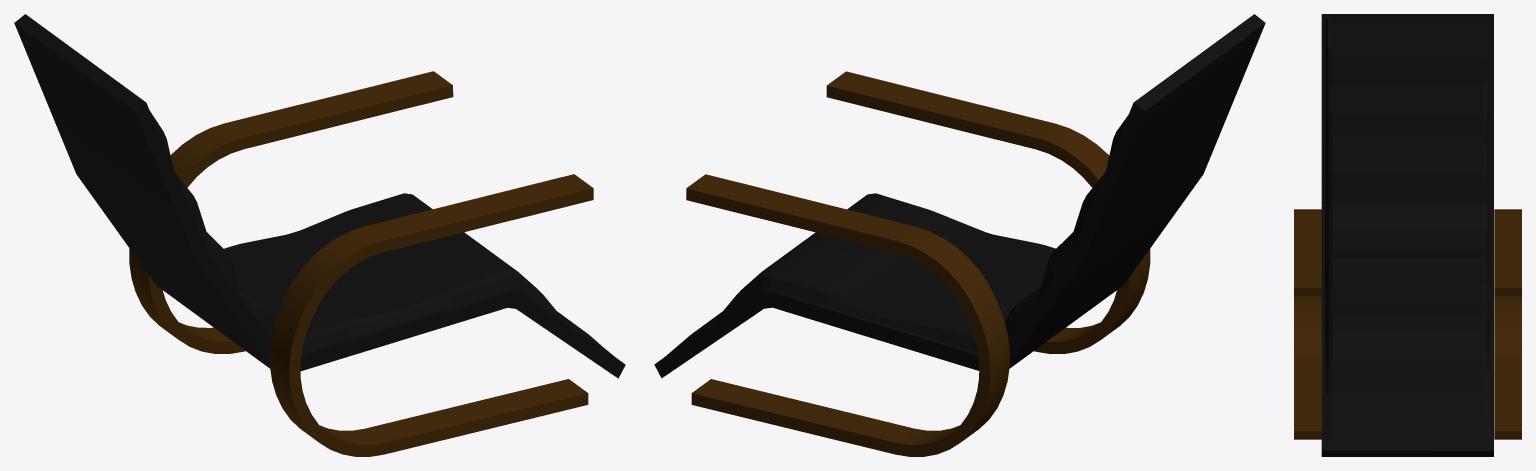
Rendered from chair.FBX.
3 views of the same model, side by side, from view 1: azimuth 30°, elevation 25°; view 2: azimuth 150°, elevation 25°; view 3: azimuth 270°, elevation 25° (orthographic). The views are drawn at different scales.
Visible parts, largest first — view 1: Line03, Line04, Line02; view 2: Line03, Line02, Line04; view 3: Line03, Line02, Line04.
Boxes of the visible parts, bbox=[...] form: Line03: bbox=[14, 14, 625, 378]; Line04: bbox=[270, 174, 593, 456]; Line02: bbox=[129, 71, 453, 353]; Line03: bbox=[654, 14, 1265, 378]; Line02: bbox=[686, 174, 1009, 456]; Line04: bbox=[826, 71, 1150, 353]; Line03: bbox=[1321, 14, 1493, 456]; Line02: bbox=[1494, 209, 1521, 439]; Line04: bbox=[1294, 209, 1321, 439].
Size of the model in its own units: 87.6 by 66.76 by 49.45.
